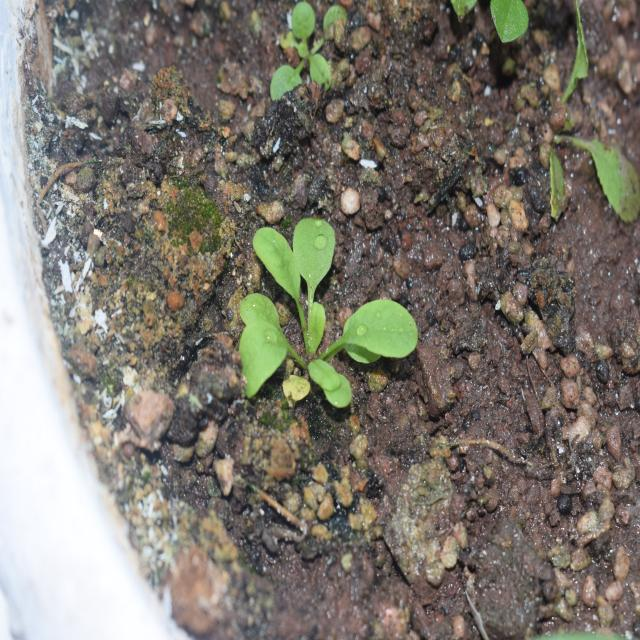Shepherd_Purse: (227, 185, 431, 412)
